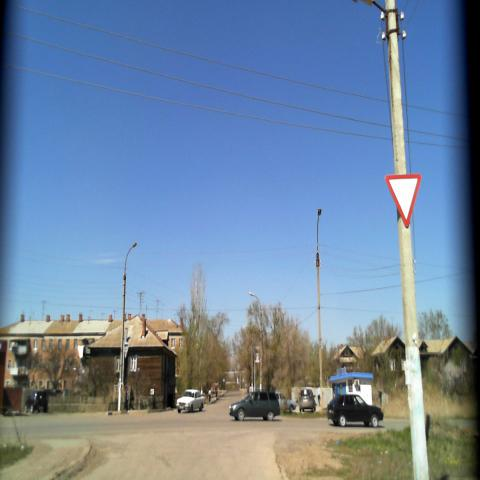2_4: (386, 173, 422, 230)
